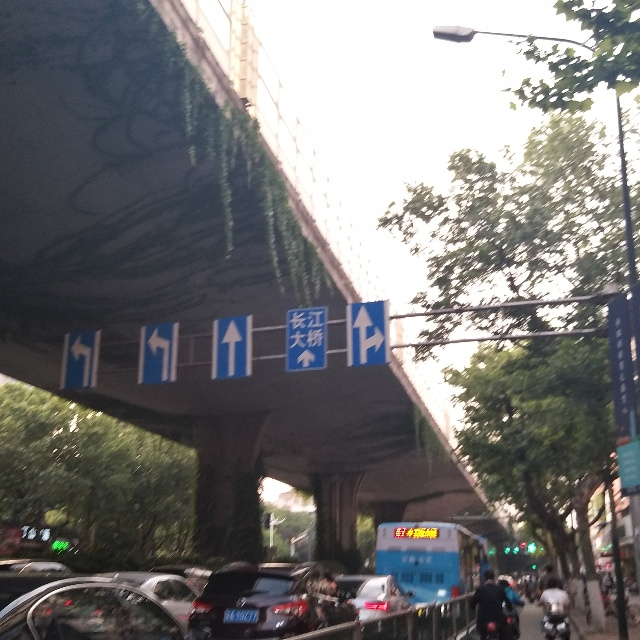left: (138, 323, 179, 386), (60, 329, 101, 390)
straight: (211, 315, 253, 380)
